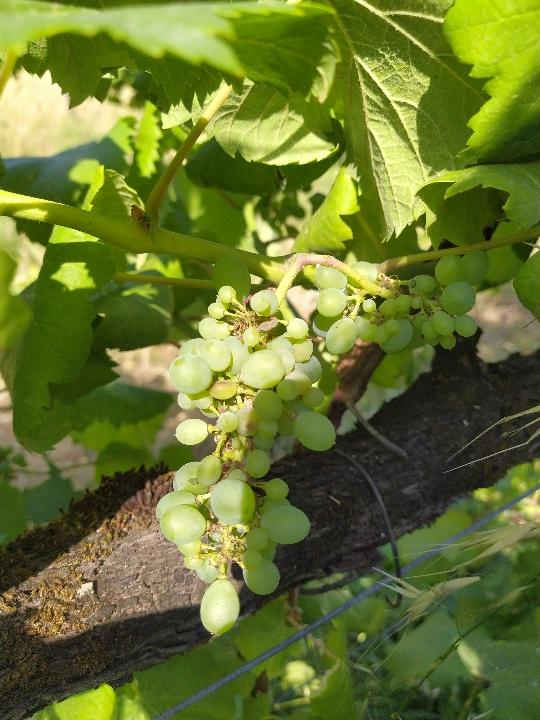grape: (150, 246, 497, 640)
